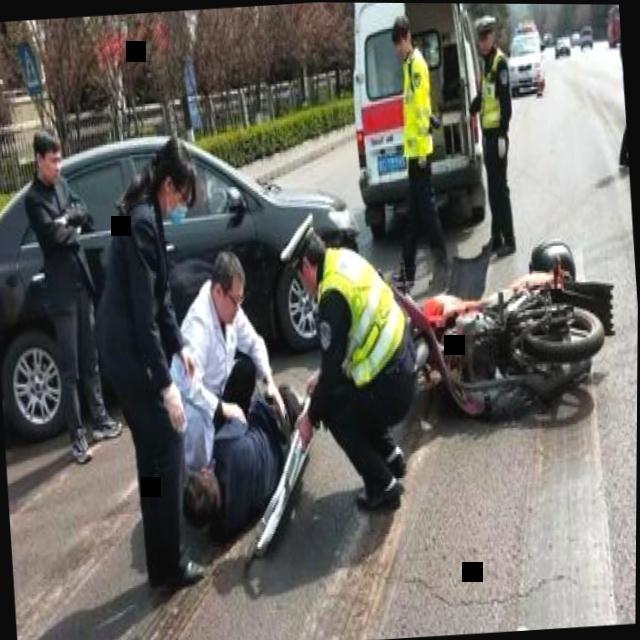Fall-Detected: (157, 338, 335, 548)
